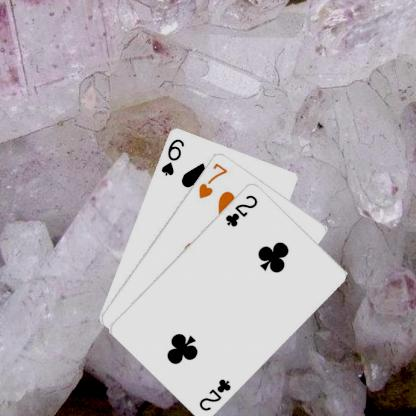2C: (223, 192, 260, 228), (196, 376, 233, 412)
6S: (158, 136, 186, 176)
7H: (195, 160, 229, 200)
